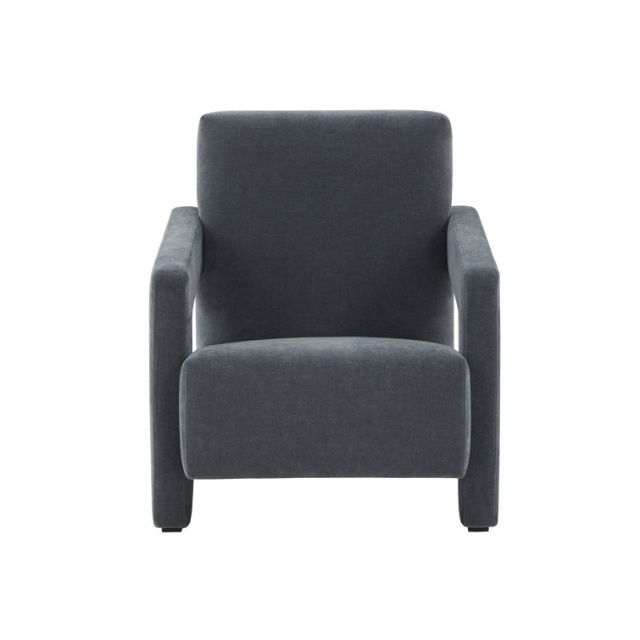obstacle: (151, 111, 498, 530)
